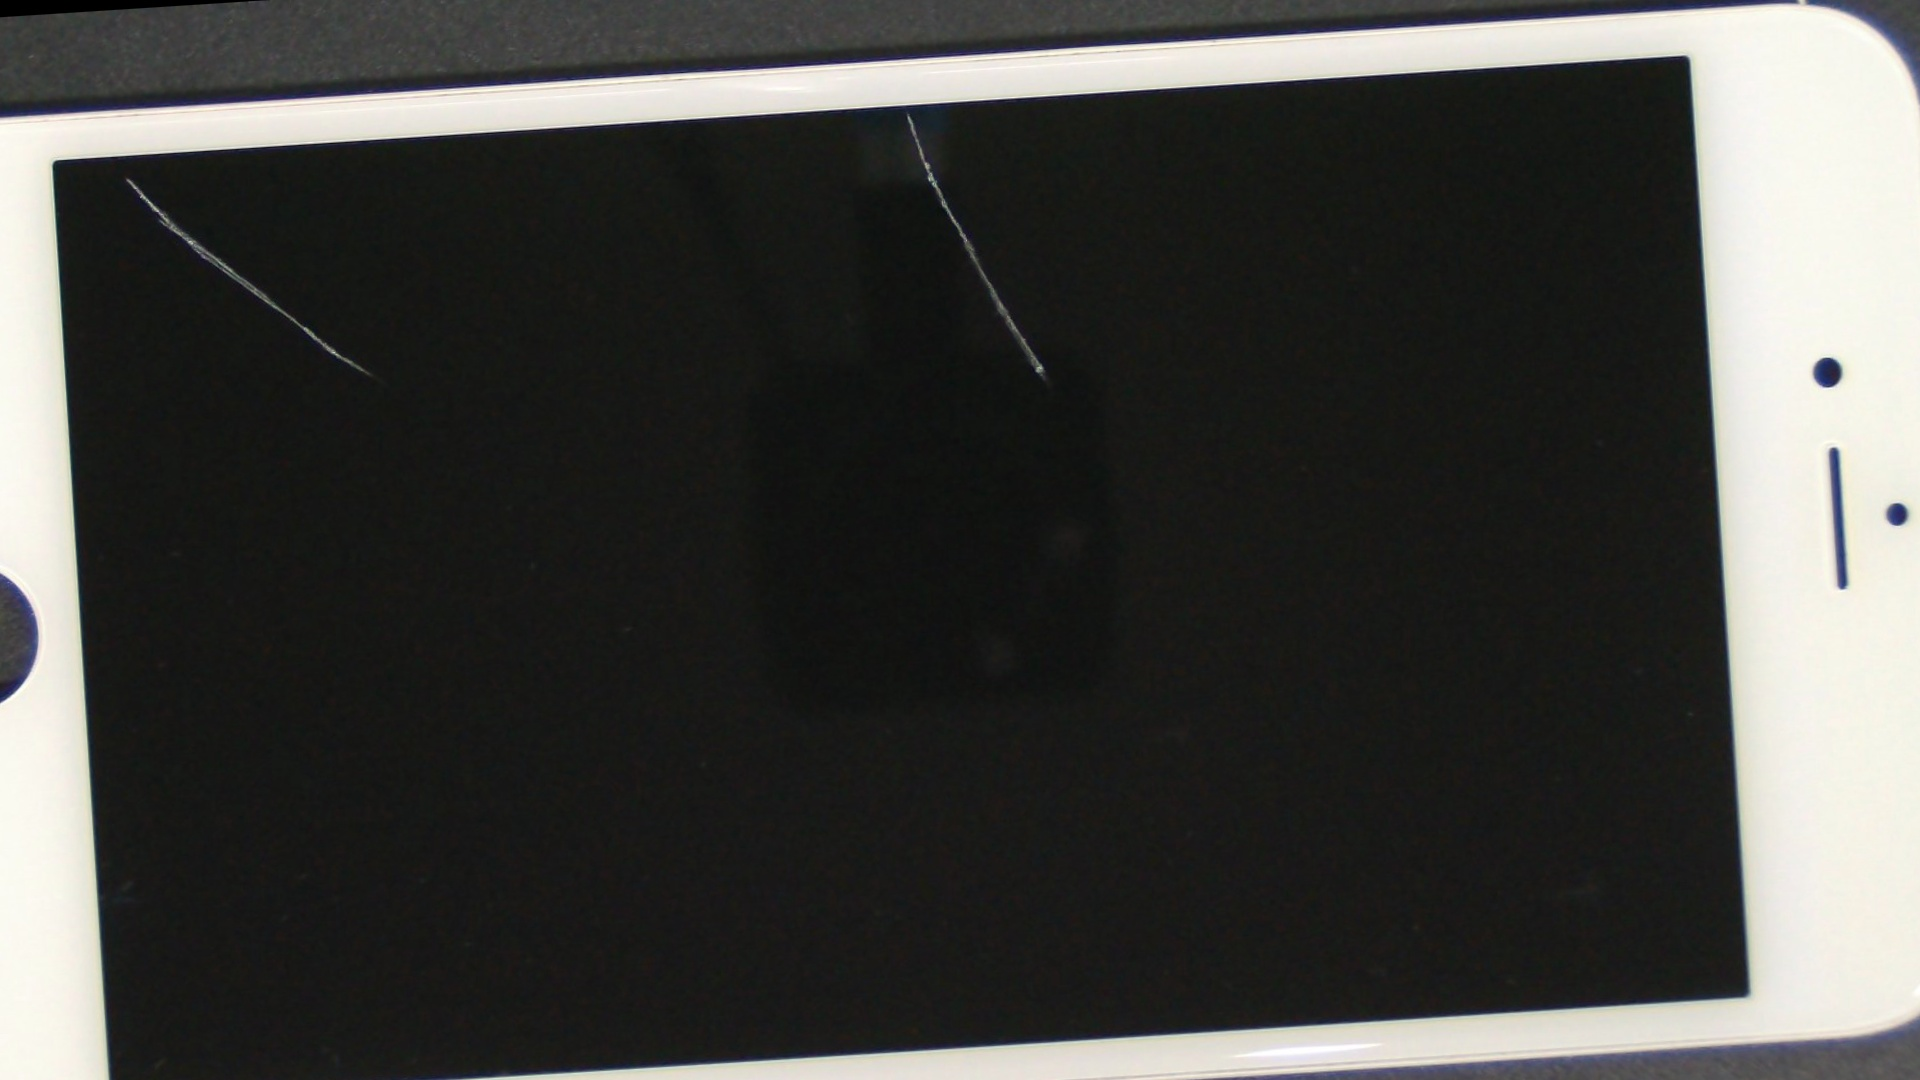oil: (349, 0, 1470, 222), (0, 82, 293, 273)
